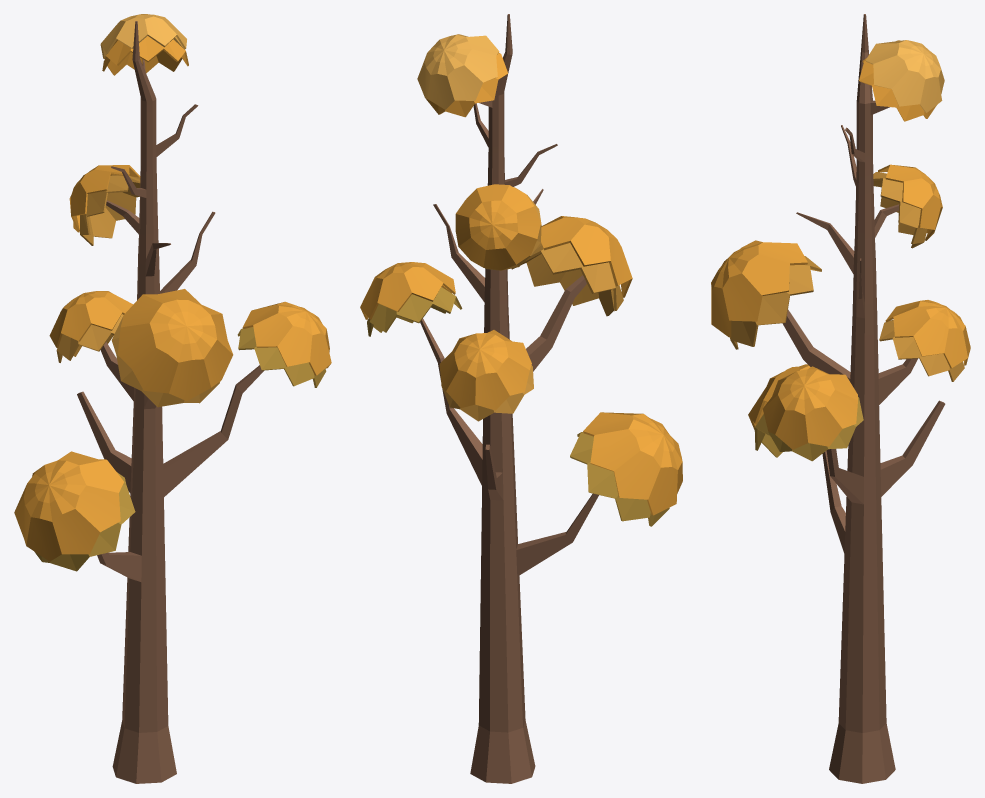
Rendered from pine_5.fbx.
3 views of the same model, side by side, from view 1: azimuth 30°, elevation 25°; view 2: azimuth 150°, elevation 25°; view 3: azimuth 270°, elevation 25° (orthographic).
Parts seen in each view (by area): view 1: pine_5; view 2: pine_5; view 3: pine_5.
Boxes of the visible parts, x1,y1,x2,y2 form: pine_5: (14,14,331,783); pine_5: (360,14,682,783); pine_5: (711,14,970,783).
Bounding box in the file's own units: 284 × 670 × 210.
